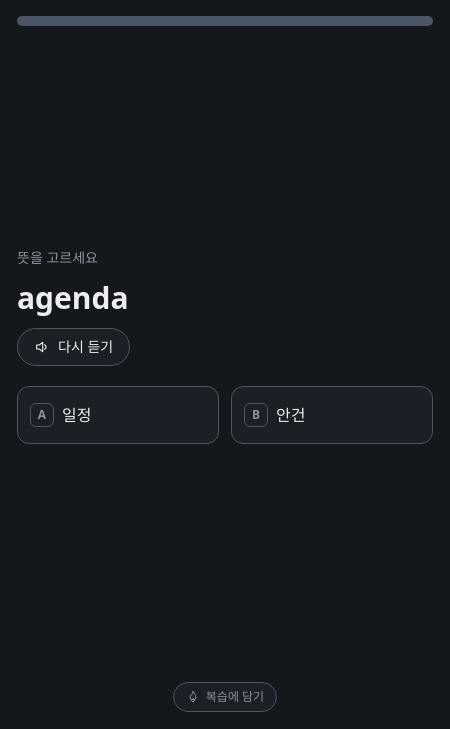
Scenario: SessionPage › resets card state between consecutive same-kind cards (no leaked selection)
The image size is (450, 729).
Check: the text "다음" is not shown
# MCQ 선택지를 고르면 '다음' 버튼이 나타난다.
Click the button "A 일정".
click(118, 415)  # box [17, 386, 219, 444]
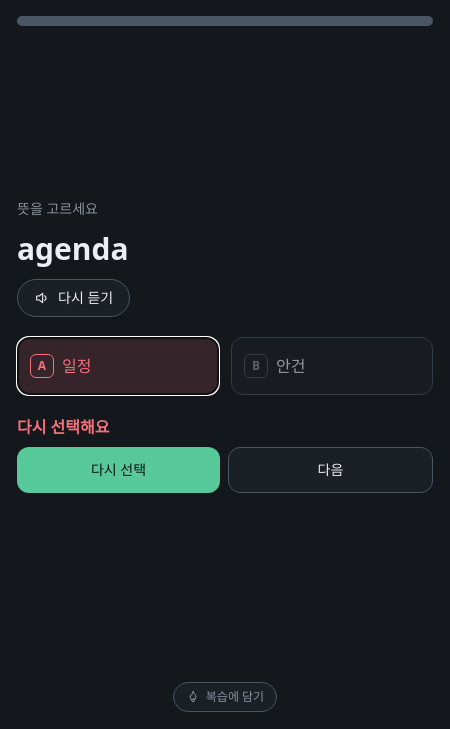
Check: the button "다음" is shown
Click the button "다음".
click(330, 470)  # box [228, 447, 433, 493]
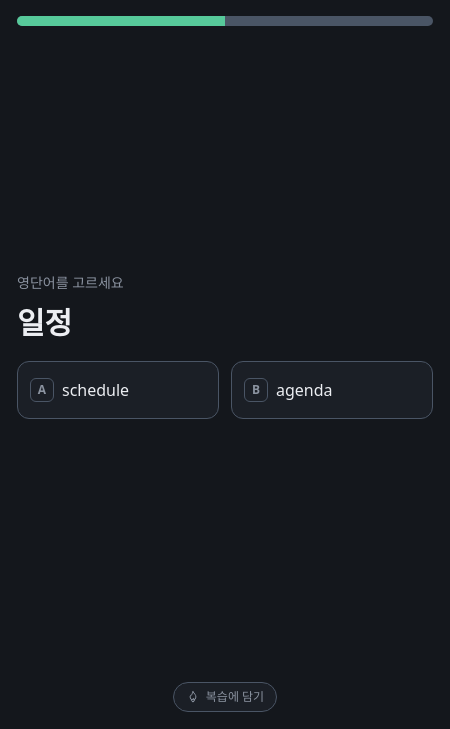
Check: the button "다음" is gone
